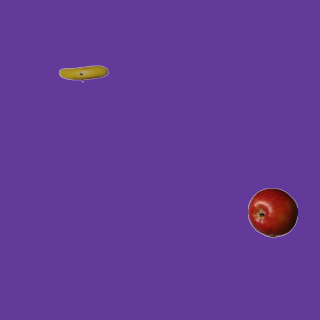Apple Braeburn: (247, 187, 297, 237)
Banana: (58, 48, 108, 98)
